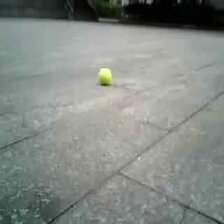tennis: (97, 68, 112, 84)
